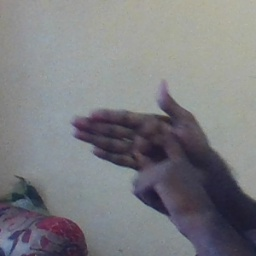R: (72, 78, 214, 212)
